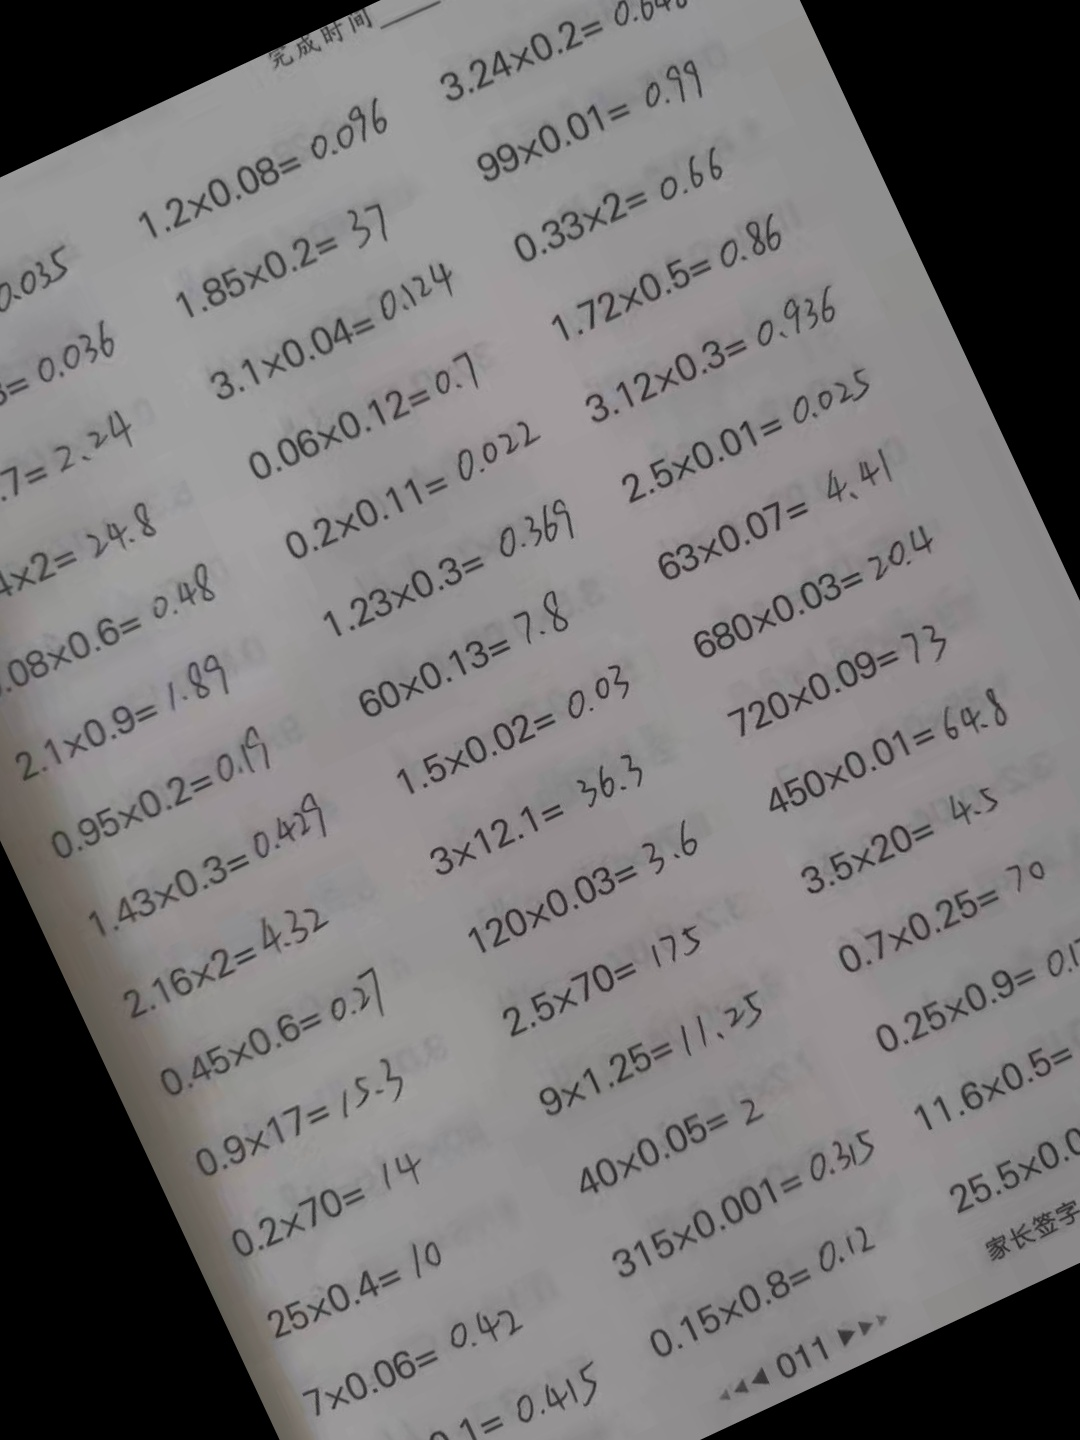equation: (607, 1133, 887, 1271), (126, 101, 403, 239), (273, 423, 543, 559), (610, 366, 878, 500), (73, 801, 339, 933), (323, 505, 583, 638), (388, 660, 648, 793), (584, 289, 845, 421), (202, 269, 459, 400), (648, 454, 906, 584), (682, 530, 943, 659), (762, 692, 1018, 822), (241, 353, 489, 478), (149, 974, 394, 1100), (635, 1230, 886, 1353), (37, 732, 281, 857), (472, 60, 711, 186), (463, 822, 703, 947), (719, 620, 955, 743), (548, 214, 785, 336), (415, 754, 653, 874), (107, 899, 339, 1019), (348, 594, 584, 712), (532, 993, 768, 1111), (6, 660, 239, 779), (292, 1297, 524, 1416), (438, 0, 691, 109), (868, 922, 1080, 1051), (172, 201, 400, 320), (0, 569, 219, 693), (186, 1061, 413, 1178), (835, 853, 1056, 967), (511, 147, 731, 262), (223, 1151, 436, 1262), (563, 1091, 774, 1201), (793, 782, 1005, 890), (500, 927, 704, 1036), (914, 998, 1080, 1125), (261, 1237, 461, 1341), (332, 1364, 591, 1440), (0, 505, 163, 620), (943, 1079, 1080, 1210), (0, 414, 138, 537), (0, 321, 127, 454), (0, 247, 84, 374)
